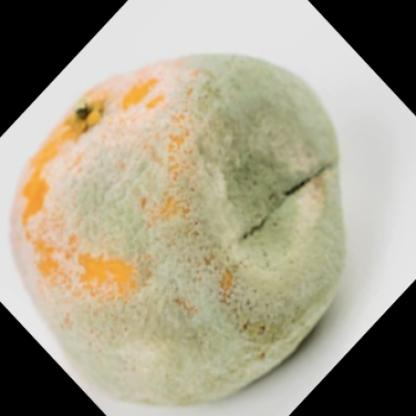rotten: (11, 53, 344, 407)
